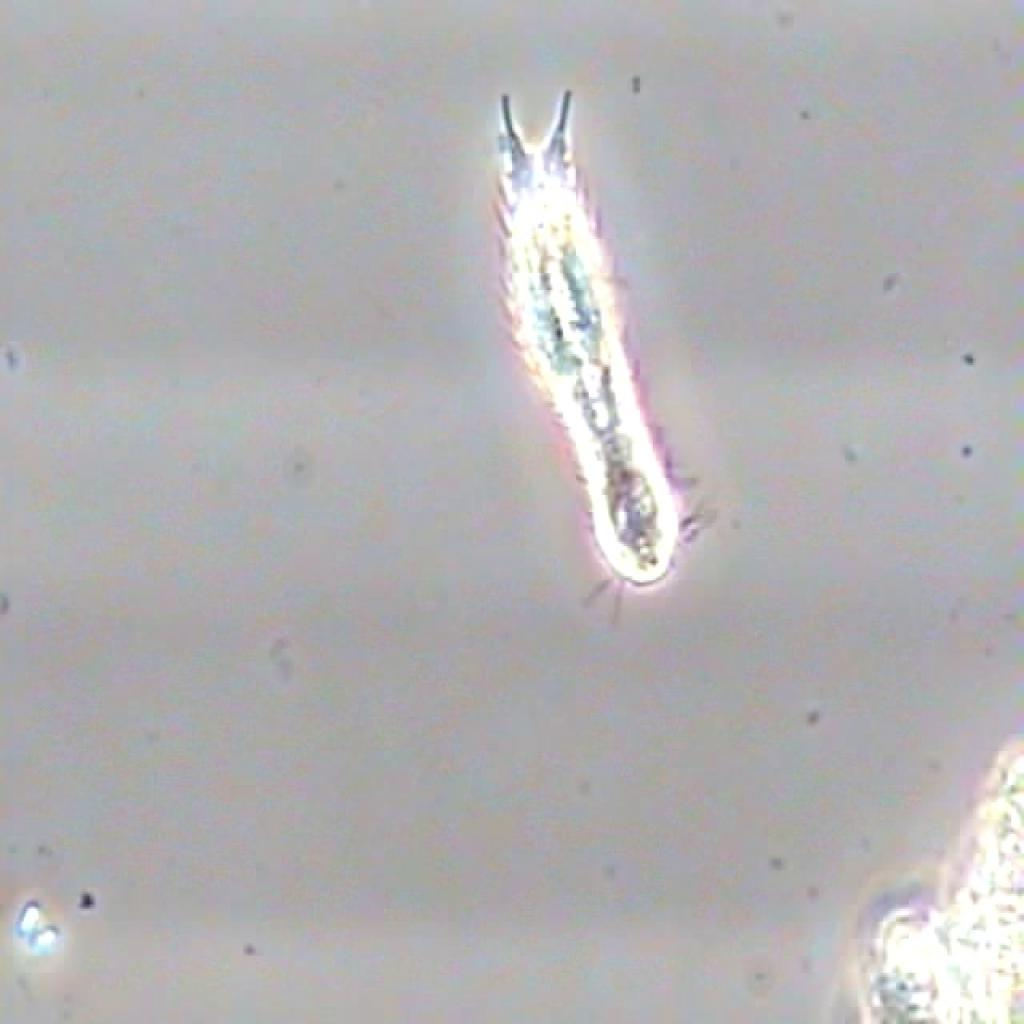Chaetonotus: (471, 88, 724, 630)
